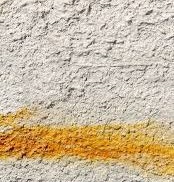Corrosion: (1, 120, 174, 182), (1, 108, 36, 121)
